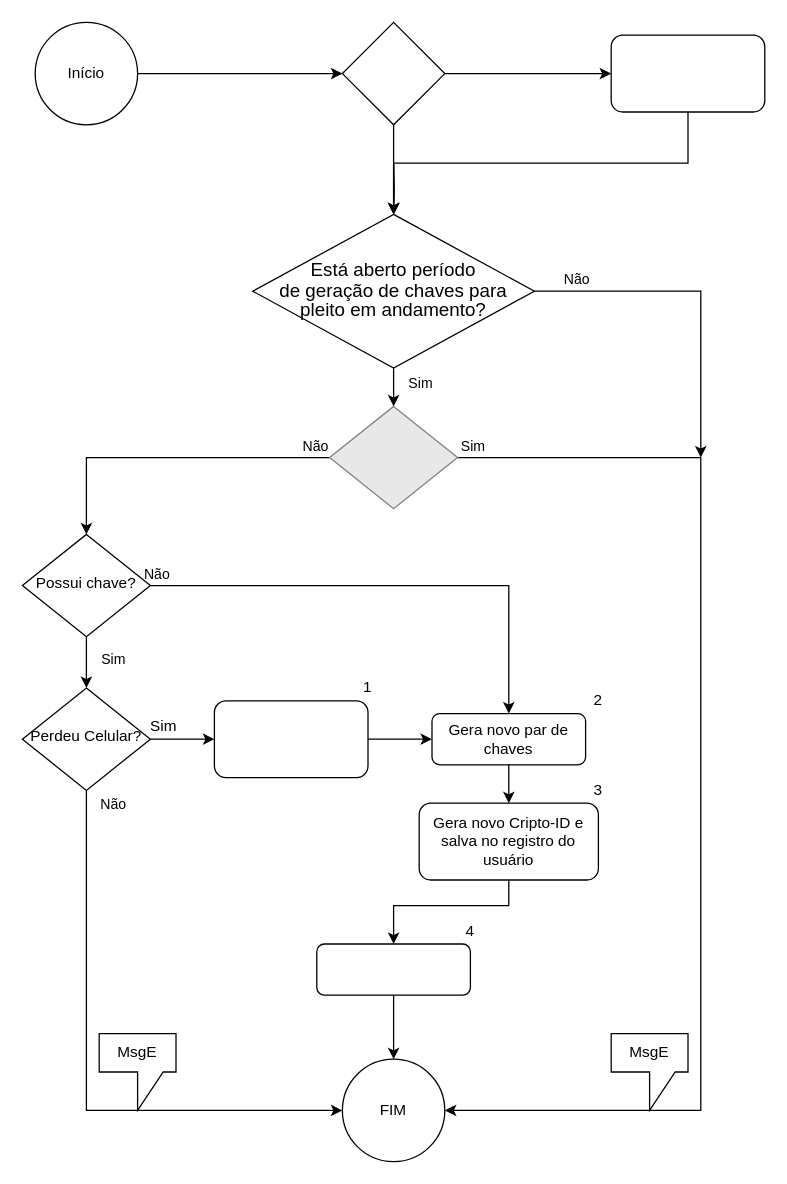
This 787x1184 diagram has some shape labels left out. The shapes that lost their labels are listed below. From the top down, each one's box as (x1, y1, x2, y2) in pixels, then its label:
(341, 21, 445, 125): Login com Token
(610, 34, 765, 112): Gera novo token para celular e apaga antigo
(328, 405, 458, 509): Votou?
(213, 700, 368, 778): Armazena Cripto-ID antigo em lista de inválidos
(316, 943, 470, 995): Salva chaves no smartfone.
